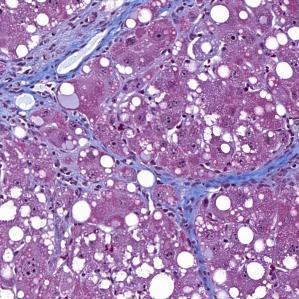fibrosis: (9, 18, 112, 105), (164, 170, 240, 245)
